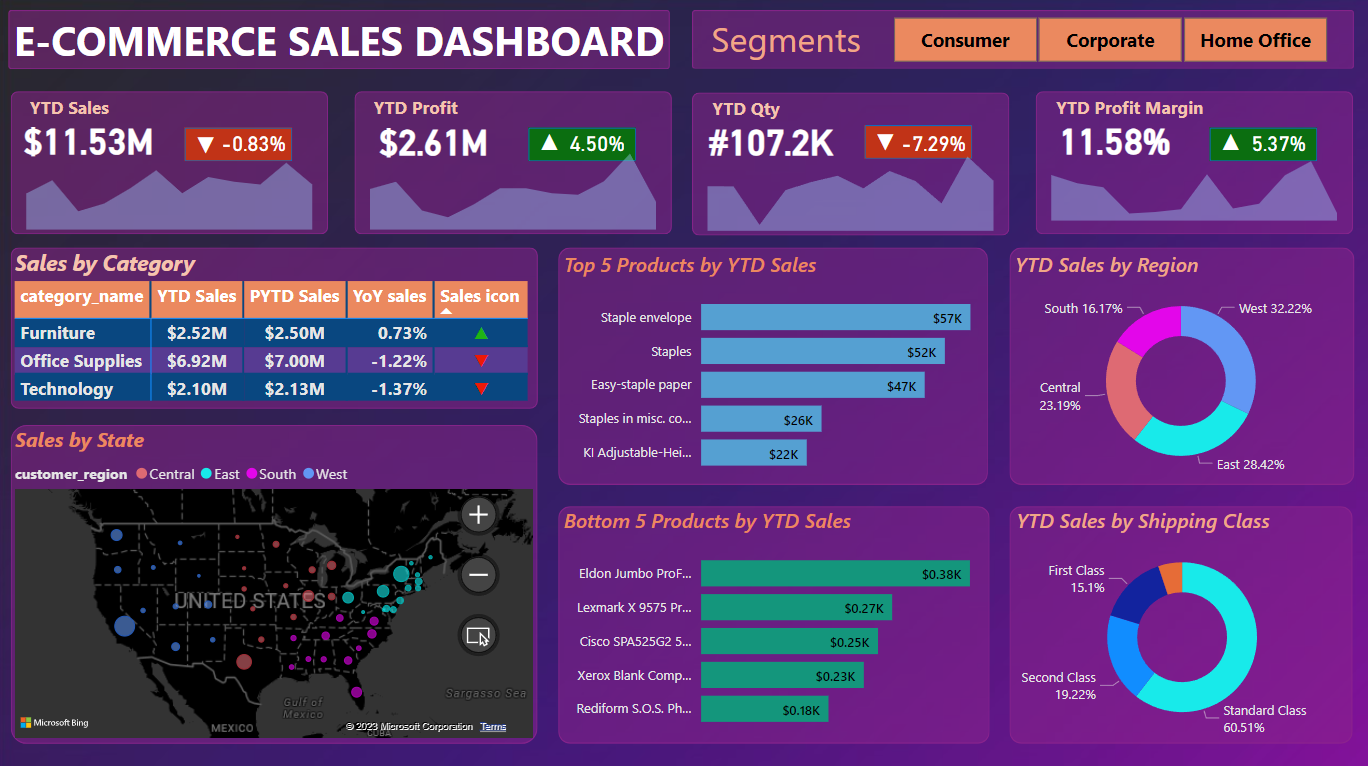

The page's visual inventory and layout, read from the dashboard file:
{"tool":"powerbi","page":{"name":"Page 1","canvas":[1280,720],"ordinal":0},"visuals":[{"type":"shape","box":[11,13.7,615,55],"z":0},{"type":"shape","box":[12.3,89.6,295,133],"z":1000},{"type":"shape","box":[174.2,122.7,100.2,31.6],"z":2000},{"type":"card","fields":{"Values":["ecommerce_data (2).YTD"]},"box":[19.1,113,133.1,42.5],"z":3000},{"type":"areaChart","fields":{"Category":["Calender.Month"],"Y":["Sum(ecommerce_data (2).sales_per_order)"]},"box":[12.3,130.9,295.1,92],"z":4000},{"type":"card","fields":{"Values":["ecommerce_data (2).Sales icon"]},"box":[174.2,124,39.8,31.6],"z":5000},{"type":"card","fields":{"Values":["ecommerce_data (2).YoY sales"]},"box":[201.7,122.7,72.7,31.6],"z":6000},{"type":"textbox","box":[26,88.3,102.9,34.3],"z":7000},{"type":"shape","box":[331.9,89.9,295,133],"z":8000},{"type":"shape","box":[493.9,123,100.2,31.6],"z":9000},{"type":"card","fields":{"Values":["Sum(ecommerce_data (2).profit_per_order)"]},"box":[338.8,113.4,133.1,42.5],"z":10000},{"type":"areaChart","fields":{"Category":["Calender.Month"],"Y":["Sum(ecommerce_data (2).profit_per_order)"]},"box":[332,131.2,295.1,92],"z":11000},{"type":"card","fields":{"Values":["ecommerce_data (2).Profit icon"]},"box":[493.6,122.3,39.7,31.8],"z":12000},{"type":"card","fields":{"Values":["ecommerce_data (2).YoY Profit"]},"box":[521.4,123,72.7,31.6],"z":13000},{"type":"textbox","box":[345.7,88.7,102.9,34.3],"z":14000},{"type":"shape","box":[645.8,91,295,133],"z":15000},{"type":"shape","box":[806.4,121.4,100.2,31.6],"z":16000},{"type":"card","fields":{"Values":["ecommerce_data (2).YTD Qty number"]},"box":[652.6,114.4,133.1,42.5],"z":17000},{"type":"areaChart","fields":{"Category":["Calender.Month"],"Y":["Sum(ecommerce_data (2).order_quantity)"]},"box":[645.8,132.3,295.1,92],"z":18000},{"type":"card","fields":{"Values":["ecommerce_data (2).Qty icon"]},"box":[807.1,120.8,37.1,33.8],"z":19000},{"type":"card","fields":{"Values":["ecommerce_data (2).YoY Qty"]},"box":[833.8,122.7,72.7,31.6],"z":20000},{"type":"textbox","box":[659.5,89.7,102.9,34.3],"z":21000},{"type":"shape","box":[965.7,89.6,295,133],"z":22000},{"type":"shape","box":[1127.6,122.7,100.2,31.6],"z":23000},{"type":"card","fields":{"Values":["ecommerce_data (2).YTD Profit Margin"]},"box":[972.6,113,133.1,42.5],"z":24000},{"type":"areaChart","fields":{"Category":["Calender.Month"],"Y":["ecommerce_data (2).Profit margin"]},"box":[965.9,131.1,294.8,83.8],"z":25000},{"type":"card","fields":{"Values":["ecommerce_data (2).Profit margin icon"]},"box":[1127.4,121.9,39.7,31.8],"z":26000},{"type":"card","fields":{"Values":["ecommerce_data (2).YoY Profit margin"]},"box":[1155,122.4,72.5,32.2],"z":27000},{"type":"textbox","box":[979.4,88.6,167.5,33.8],"z":28000},{"type":"shape","box":[12.9,235.2,490,150],"z":28001},{"type":"pivotTable","title":"Sales by Category","fields":{"Rows":["ecommerce_data (2).category_name"],"Values":["ecommerce_data (2).YTD Sales","ecommerce_data (2).PYTD Sales","ecommerce_data (2).YoY sales","ecommerce_data (2).Sales icon"]},"box":[11.3,235.2,491.3,149.8],"z":28002},{"type":"shape","box":[12.9,399.5,489.7,296.4],"z":28003},{"type":"map","title":"Sales by State","fields":{"Y":["us_state_long_lat_codes.latitude"],"X":["us_state_long_lat_codes.longitude"],"Size":["ecommerce_data (2).YTD Sales"],"Series":["ecommerce_data (2).customer_region"]},"box":[11.3,399.5,491.3,296.4],"z":28004},{"type":"shape","box":[521.9,235.2,399.5,220.7],"z":28005},{"type":"shape","box":[521.9,475.2,401.1,220.7],"z":28006},{"type":"barChart","title":"Top 5 Products by YTD Sales","fields":{"Y":["ecommerce_data (2).YTD Sales"],"Category":["ecommerce_data (2).product_name"]},"box":[521.9,236.8,401.1,219.1],"z":28007},{"type":"barChart","title":"Bottom 5 Products by YTD Sales","fields":{"Y":["ecommerce_data (2).YTD Sales"],"Category":["ecommerce_data (2).product_name"]},"box":[521.9,475.2,401.1,219.1],"z":28008},{"type":"shape","box":[940.8,235.2,320.6,220.7],"z":28009},{"type":"shape","box":[940.8,475.2,319,220.7],"z":28010},{"type":"donutChart","title":"YTD Sales by Shipping Class","fields":{"Y":["ecommerce_data (2).YTD Sales"],"Category":["ecommerce_data (2).shipping_type"]},"box":[942.4,475.2,319,219.1],"z":28012},{"type":"donutChart","title":"YTD Sales by Region","fields":{"Y":["ecommerce_data (2).YTD Sales"],"Category":["ecommerce_data (2).customer_region"]},"box":[940.8,236.8,319,219.1],"z":28013},{"type":"shape","box":[646,14.5,615.4,54.8],"z":28014},{"type":"slicer","fields":{"Values":["ecommerce_data (2).customer_segment"]},"box":[807.1,14.5,452.7,54.8],"z":28015},{"type":"textbox","box":[658.9,14.5,175.6,54.8],"z":28016}]}

Visuals, with their boxes in screenshot pixels (x1, y1, x2, y2), scaled from the page's 1280x720 canvas onto the 1368x766 screenshot:
shape: BBox(12, 15, 669, 73)
shape: BBox(13, 95, 328, 237)
shape: BBox(186, 131, 293, 164)
card - ecommerce_data (2).YTD: BBox(20, 120, 163, 165)
areaChart - Calender.Month x Sum(ecommerce_data (2).sales_per_order): BBox(13, 139, 329, 237)
card - ecommerce_data (2).Sales icon: BBox(186, 132, 229, 166)
card - ecommerce_data (2).YoY sales: BBox(216, 131, 293, 164)
textbox: BBox(28, 94, 138, 130)
shape: BBox(355, 96, 670, 237)
shape: BBox(528, 131, 635, 164)
card - Sum(ecommerce_data (2).profit_per_order): BBox(362, 121, 504, 166)
areaChart - Calender.Month x Sum(ecommerce_data (2).profit_per_order): BBox(355, 140, 670, 237)
card - ecommerce_data (2).Profit icon: BBox(528, 130, 570, 164)
card - ecommerce_data (2).YoY Profit: BBox(557, 131, 635, 164)
textbox: BBox(369, 94, 479, 131)
shape: BBox(690, 97, 1005, 238)
shape: BBox(862, 129, 969, 163)
card - ecommerce_data (2).YTD Qty number: BBox(697, 122, 840, 167)
areaChart - Calender.Month x Sum(ecommerce_data (2).order_quantity): BBox(690, 141, 1006, 239)
card - ecommerce_data (2).Qty icon: BBox(863, 129, 902, 164)
card - ecommerce_data (2).YoY Qty: BBox(891, 131, 969, 164)
textbox: BBox(705, 95, 815, 132)
shape: BBox(1032, 95, 1347, 237)
shape: BBox(1205, 131, 1312, 164)
card - ecommerce_data (2).YTD Profit Margin: BBox(1039, 120, 1182, 165)
areaChart - Calender.Month x ecommerce_data (2).Profit margin: BBox(1032, 139, 1347, 229)
card - ecommerce_data (2).Profit margin icon: BBox(1205, 130, 1247, 164)
card - ecommerce_data (2).YoY Profit margin: BBox(1234, 130, 1312, 164)
textbox: BBox(1047, 94, 1226, 130)
shape: BBox(14, 250, 537, 410)
"Sales by Category" pivotTable: BBox(12, 250, 537, 410)
shape: BBox(14, 425, 537, 740)
"Sales by State" map: BBox(12, 425, 537, 740)
shape: BBox(558, 250, 985, 485)
shape: BBox(558, 506, 986, 740)
"Top 5 Products by YTD Sales" barChart: BBox(558, 252, 986, 485)
"Bottom 5 Products by YTD Sales" barChart: BBox(558, 506, 986, 739)
shape: BBox(1005, 250, 1348, 485)
shape: BBox(1005, 506, 1346, 740)
"YTD Sales by Shipping Class" donutChart: BBox(1007, 506, 1348, 739)
"YTD Sales by Region" donutChart: BBox(1005, 252, 1346, 485)
shape: BBox(690, 15, 1348, 74)
slicer - ecommerce_data (2).customer_segment: BBox(863, 15, 1346, 74)
textbox: BBox(704, 15, 892, 74)
